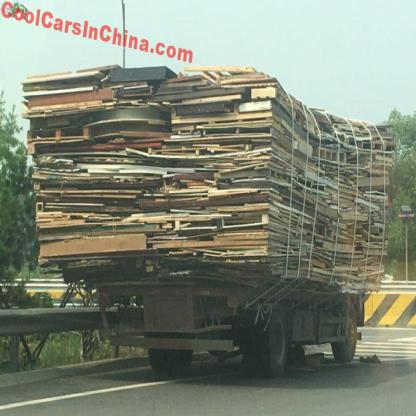overloaded-truck: (14, 61, 381, 361)
